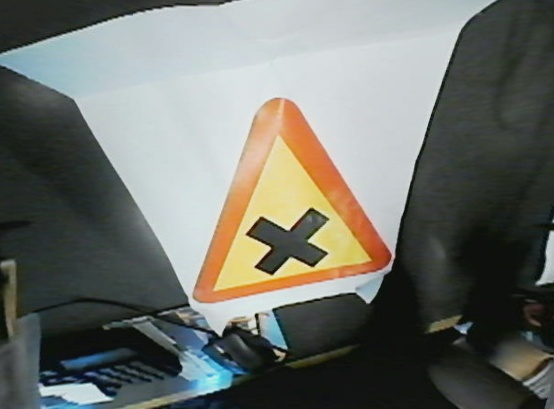junction: (195, 94, 395, 322)
